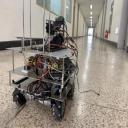cart: (6, 45, 78, 121)
